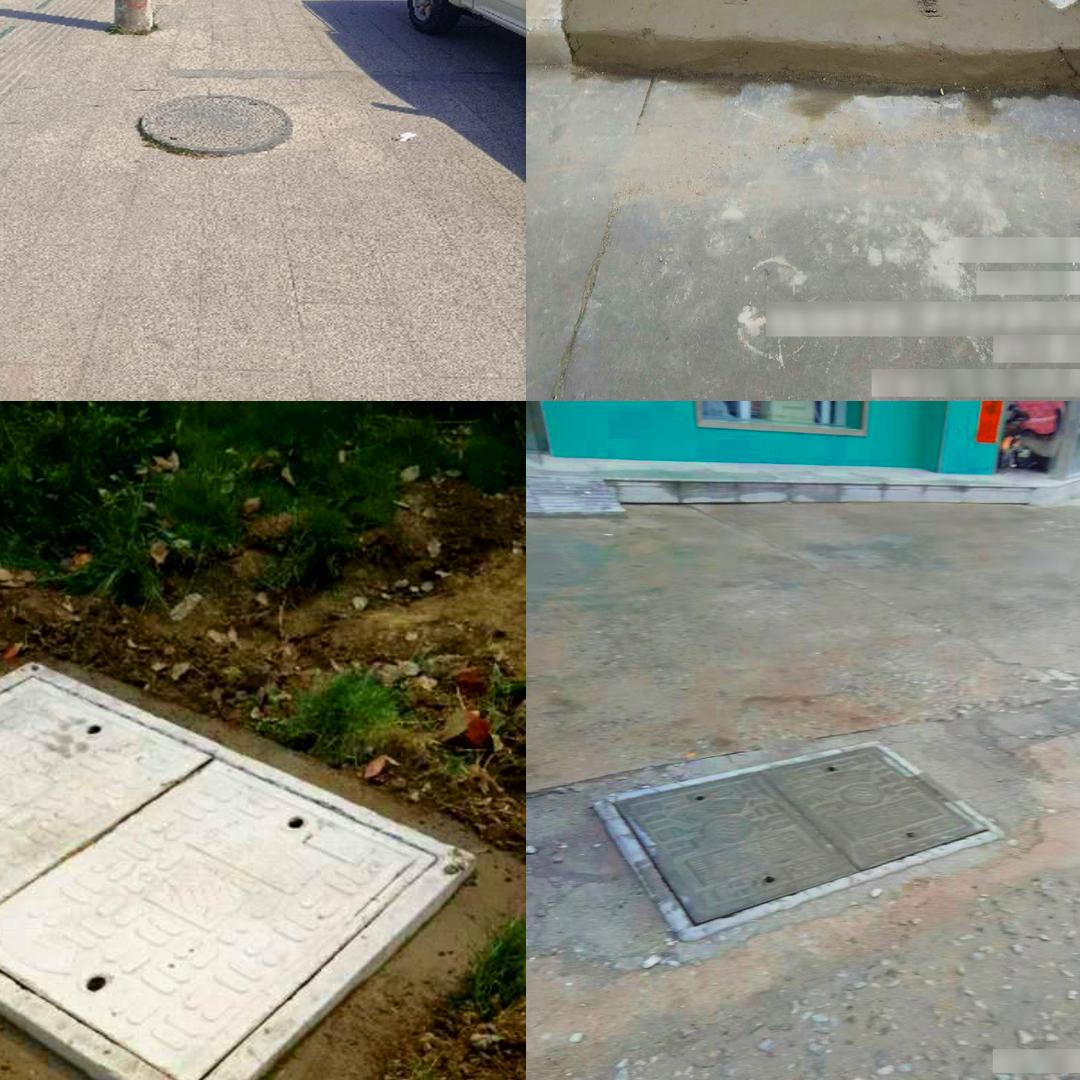good: (0, 662, 480, 1080), (596, 738, 1005, 942), (139, 93, 290, 156), (644, 0, 1025, 17)
